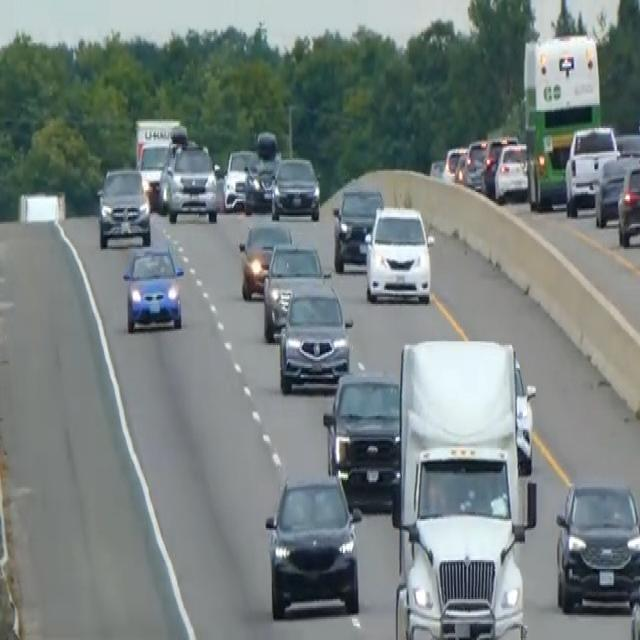bus: (521, 30, 602, 210)
car: (264, 469, 363, 619), (554, 478, 639, 614), (323, 366, 401, 503), (277, 277, 353, 393), (363, 203, 434, 304), (262, 240, 328, 340), (122, 242, 184, 332), (563, 123, 620, 215), (163, 140, 219, 224), (95, 164, 151, 247), (331, 183, 383, 272), (237, 218, 292, 300), (593, 151, 639, 228), (270, 154, 321, 220), (481, 138, 529, 202), (244, 130, 281, 212), (136, 135, 171, 208), (222, 146, 255, 212), (616, 157, 639, 247), (462, 137, 488, 188), (442, 144, 467, 183), (629, 542, 639, 638), (615, 130, 639, 162)
lorry: (390, 334, 537, 638)
